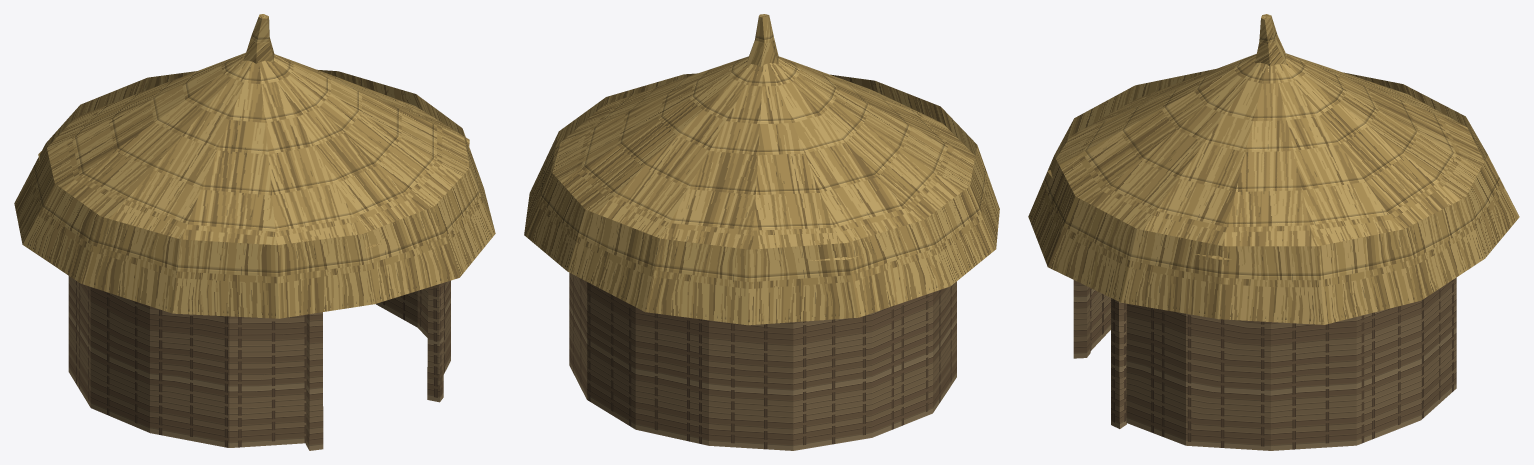
File: camp_hut_a.fbx
3 renders of one model, left to right at view 1: azimuth 30°, elevation 25°; view 2: azimuth 150°, elevation 25°; view 3: azimuth 270°, elevation 25°, orthographic.
Parts seen in each view (by area): view 1: camp_hut_a; view 2: camp_hut_a; view 3: camp_hut_a.
Boxes of the visible parts, <box> form: camp_hut_a: <box>14,14,495,450</box>; camp_hut_a: <box>524,14,999,450</box>; camp_hut_a: <box>1028,14,1519,450</box>.
Size of the model in its own units: 428 by 348 by 431.
